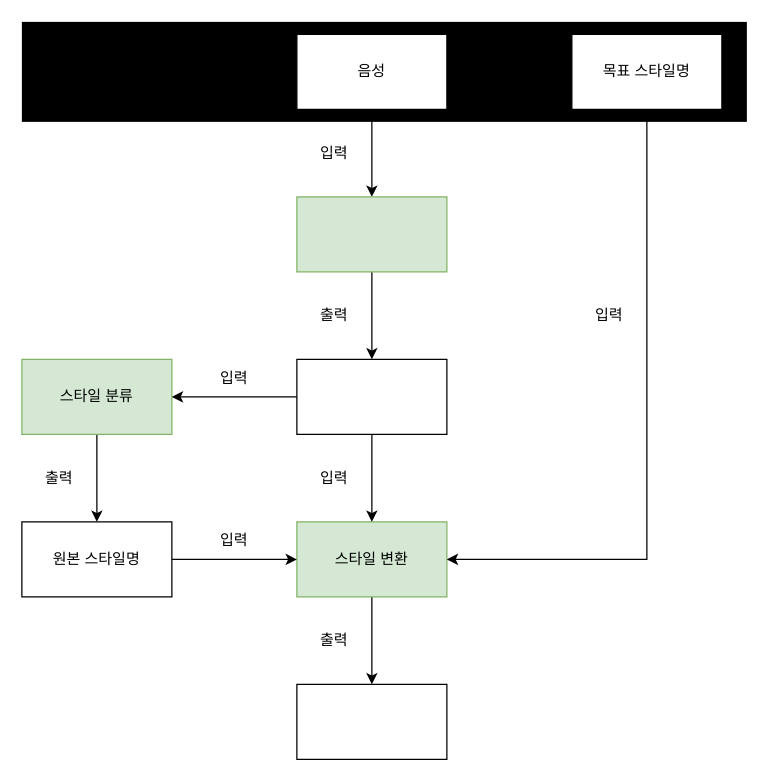
Image size: 769x781. Some labels were removed from this diagram. The centre of each missing label's shape, as x and y in pixels:
"결과 텍스트" goes at [371,721].
"문장" goes at [371,396].
"텍스트 변환" goes at [371,234].
